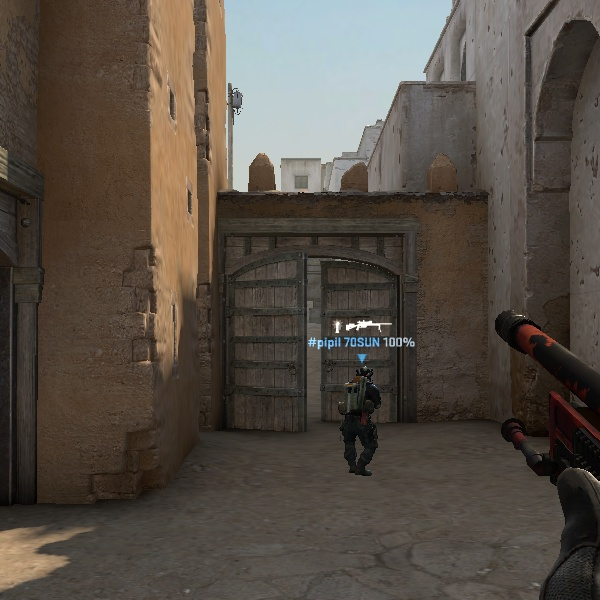ct_body: (326, 361, 391, 480)
ct_head: (346, 361, 376, 391)
